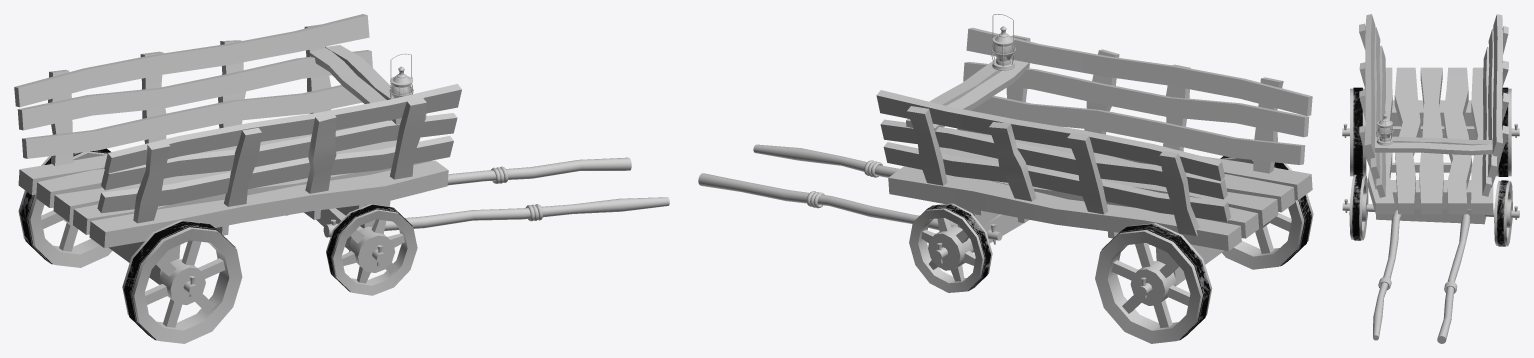
The model's file is cart.obj.
The picture shows the model from 3 angles, left to right: view 1: azimuth 30°, elevation 25°; view 2: azimuth 150°, elevation 25°; view 3: azimuth 270°, elevation 25°; orthographic projection. The views are drawn at different scales.
Visible parts, largest first — view 1: Wood_cart_2_0_Куб.005, Metal_wheel_2_0_Окружность.002; view 2: Wood_cart_2_0_Куб.005, Metal_wheel_2_0_Окружность.002, Metal_lamp_2_0_Цилиндр.015; view 3: Wood_cart_2_0_Куб.005, Metal_wheel_2_0_Окружность.002, Metal_lamp_2_0_Цилиндр.015, Rope_2_0_Цилиндр.003, Glass_lamp_2_0_Цилиндр.011.
Part boxes in pixels (bbox=[...]): Wood_cart_2_0_Куб.005: bbox=[14, 14, 669, 343]; Metal_wheel_2_0_Окружность.002: bbox=[20, 148, 412, 340]; Wood_cart_2_0_Куб.005: bbox=[698, 27, 1313, 343]; Metal_wheel_2_0_Окружность.002: bbox=[914, 156, 1312, 340]; Metal_lamp_2_0_Цилиндр.015: bbox=[991, 14, 1015, 70]; Wood_cart_2_0_Куб.005: bbox=[1342, 14, 1519, 343]; Metal_wheel_2_0_Окружность.002: bbox=[1352, 87, 1508, 246]; Metal_lamp_2_0_Цилиндр.015: bbox=[1376, 103, 1393, 145]; Rope_2_0_Цилиндр.003: bbox=[1378, 277, 1457, 293]; Glass_lamp_2_0_Цилиндр.011: bbox=[1377, 126, 1392, 138].
Bounding box in the file's own units: 4.88 × 1.73 × 1.86.
